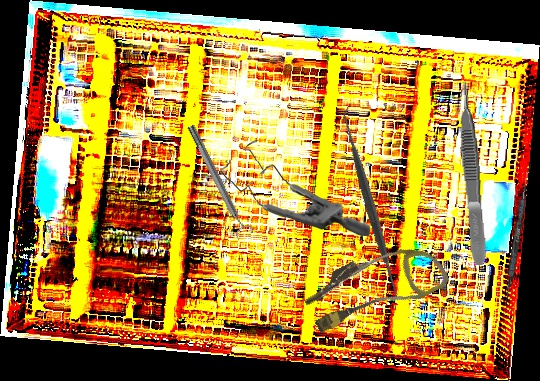Cannula: (297, 225, 452, 348)
Fixation Ring: (182, 121, 255, 241)
Spatula Surgical: (268, 102, 473, 307), (503, 162, 532, 308)
Speculum: (219, 134, 371, 244)
Tissue Forceps: (456, 81, 489, 266)
